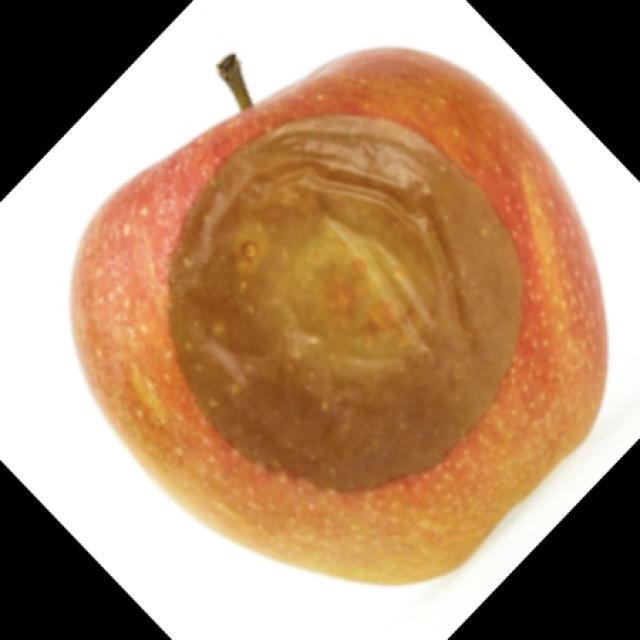Rotten: (63, 39, 612, 594)
